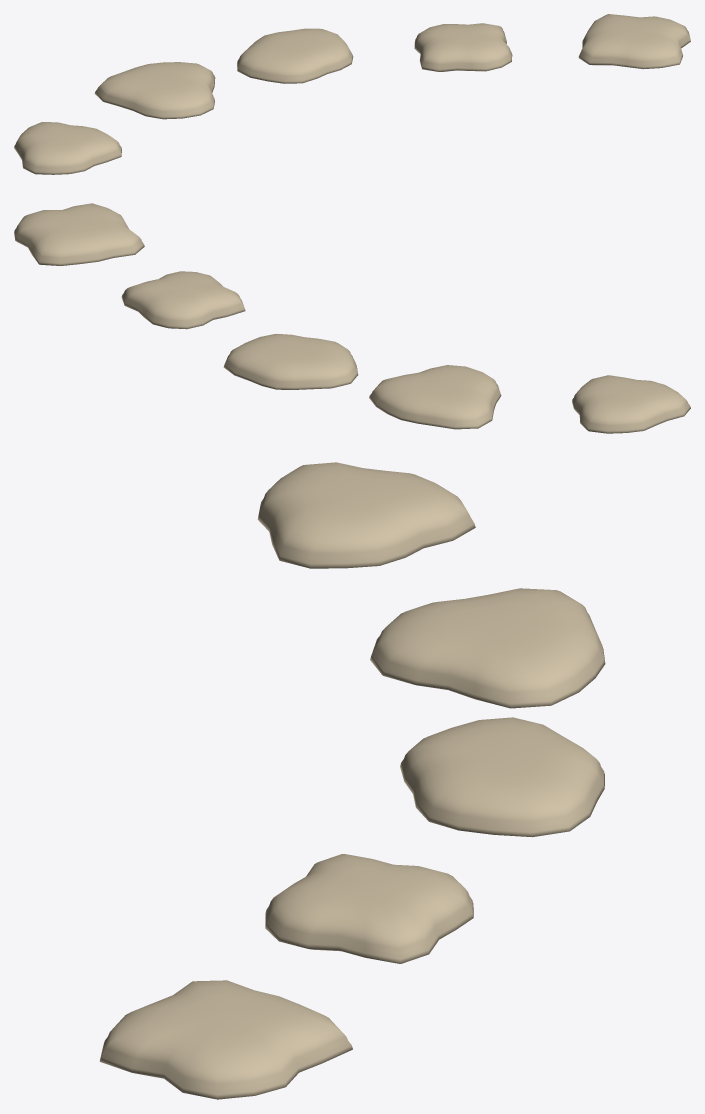
The model's file is sh_stepping_stones.fbx.
3 views of the same model, one above another, from view 1: azimuth 30°, elevation 25°; view 2: azimuth 150°, elevation 25°; view 3: azimuth 270°, elevation 25° (orthographic). The views are drawn at different scales.
Visible parts, largest first — view 1: SH_Stepping_Stones; view 2: SH_Stepping_Stones; view 3: SH_Stepping_Stones.
Boxes of the visible parts, x1,y1,x2,y2 form: SH_Stepping_Stones: [14, 14, 690, 174]; SH_Stepping_Stones: [14, 203, 690, 433]; SH_Stepping_Stones: [99, 462, 605, 1099].
Bounding box in the file's own units: 107 × 3.36 × 36.72.
